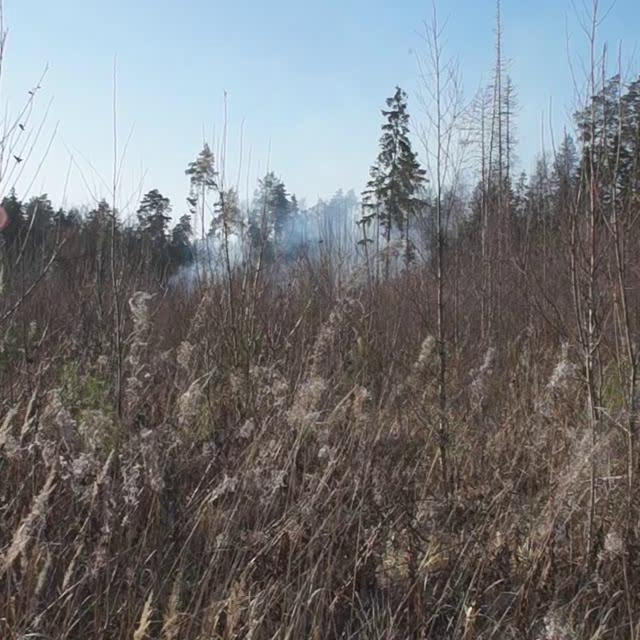Smoke: (160, 168, 472, 304)
